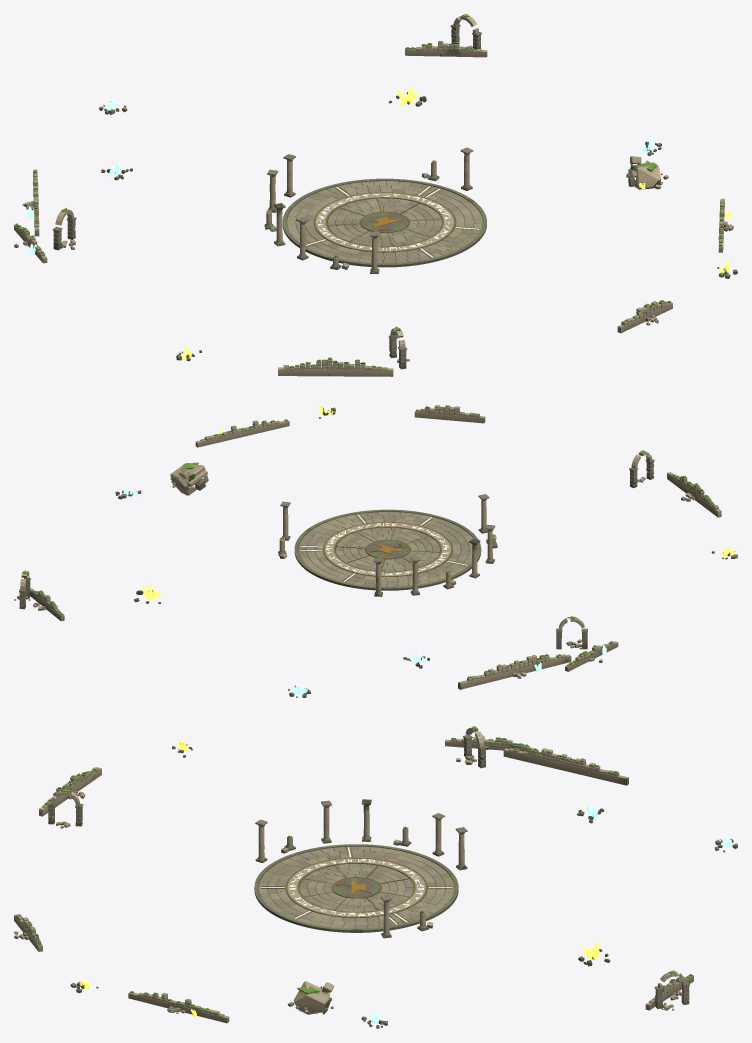
File: LOBBY_SN_03_TOWN_d9f901.fbx
The picture shows the model from 3 angles, top to bottom: view 1: azimuth 30°, elevation 25°; view 2: azimuth 150°, elevation 25°; view 3: azimuth 270°, elevation 25°; orthographic projection. The views are drawn at different scales.
Visible parts, largest first — view 1: WB_Town_Plaza_01__SNB_Plaza_2, WB_Town_Plaza__SNB_Plaza_1, WB_Prop_Ruins__SNB_Ruins_g15_15, WB_Prop_Ruins__SNB_Ruins_g15_16, WB_Prop_Ruins__SNB_Ruins_g16_16, WB_Prop_Ruins__SNB_Ruins_g16_15, WB_Prop_Ruins__SNB_Ruins_g16_14, WB_Town_Plaza_02__SN_Rune, WB_Prop_Ruins__SNB_Ruins_g16_17; view 2: WB_Town_Plaza_01__SNB_Plaza_2, WB_Town_Plaza__SNB_Plaza_1, WB_Prop_Ruins__SNB_Ruins_g15_16, WB_Prop_Ruins__SNB_Ruins_g16_15, WB_Prop_Ruins__SNB_Ruins_g15_15, WB_Prop_Ruins__SNB_Ruins_g16_16, WB_Prop_Ruins__SNB_Ruins_g16_14, WB_Town_Plaza_02__SN_Rune, WB_Prop_Ruins__SNB_Ruins_g16_17, WB_Prop_Ruins__SNB_Ruins_g14_16; view 3: WB_Town_Plaza_01__SNB_Plaza_2, WB_Town_Plaza__SNB_Plaza_1, WB_Prop_Ruins__SNB_Ruins_g15_16, WB_Prop_Ruins__SNB_Ruins_g16_15, WB_Prop_Ruins__SNB_Ruins_g15_15, WB_Prop_Ruins__SNB_Ruins_g16_16, WB_Town_Plaza_02__SN_Rune, WB_Prop_Ruins__SNB_Ruins_g14_16, WB_Prop_Ruins__SNB_Ruins_g16_17, WB_Prop_Ruins__SNB_Ruins_g16_14.
Part boxes in pixels (bbox=[...]): WB_Town_Plaza_01__SNB_Plaza_2: bbox=[282, 178, 486, 267]; WB_Town_Plaza__SNB_Plaza_1: bbox=[286, 181, 482, 263]; WB_Prop_Ruins__SNB_Ruins_g15_15: bbox=[199, 216, 409, 376]; WB_Prop_Ruins__SNB_Ruins_g15_16: bbox=[22, 101, 295, 361]; WB_Prop_Ruins__SNB_Ruins_g16_16: bbox=[388, 15, 653, 190]; WB_Prop_Ruins__SNB_Ruins_g16_15: bbox=[626, 141, 737, 301]; WB_Prop_Ruins__SNB_Ruins_g16_14: bbox=[617, 300, 672, 333]; WB_Town_Plaza_02__SN_Rune: bbox=[306, 186, 478, 257]; WB_Prop_Ruins__SNB_Ruins_g16_17: bbox=[405, 14, 485, 55]; WB_Town_Plaza_01__SNB_Plaza_2: bbox=[294, 509, 481, 590]; WB_Town_Plaza__SNB_Plaza_1: bbox=[298, 512, 477, 586]; WB_Prop_Ruins__SNB_Ruins_g15_16: bbox=[288, 538, 737, 697]; WB_Prop_Ruins__SNB_Ruins_g16_15: bbox=[115, 407, 419, 499]; WB_Prop_Ruins__SNB_Ruins_g15_15: bbox=[478, 450, 721, 563]; WB_Prop_Ruins__SNB_Ruins_g16_16: bbox=[17, 490, 290, 615]; WB_Prop_Ruins__SNB_Ruins_g16_14: bbox=[414, 405, 485, 423]; WB_Town_Plaza_02__SN_Rune: bbox=[300, 514, 466, 581]; WB_Prop_Ruins__SNB_Ruins_g16_17: bbox=[14, 571, 64, 621]; WB_Prop_Ruins__SNB_Ruins_g14_16: bbox=[565, 631, 618, 671]; WB_Town_Plaza_01__SNB_Plaza_2: bbox=[254, 844, 458, 932]; WB_Town_Plaza__SNB_Plaza_1: bbox=[258, 846, 454, 928]; WB_Prop_Ruins__SNB_Ruins_g15_16: bbox=[172, 726, 737, 870]; WB_Prop_Ruins__SNB_Ruins_g16_15: bbox=[39, 943, 387, 1028]; WB_Prop_Ruins__SNB_Ruins_g15_15: bbox=[39, 755, 331, 862]; WB_Prop_Ruins__SNB_Ruins_g16_16: bbox=[361, 895, 691, 1021]; WB_Town_Plaza_02__SN_Rune: bbox=[261, 847, 452, 924]; WB_Prop_Ruins__SNB_Ruins_g14_16: bbox=[445, 735, 529, 751]; WB_Prop_Ruins__SNB_Ruins_g16_17: bbox=[651, 970, 693, 1010]; WB_Prop_Ruins__SNB_Ruins_g16_14: bbox=[14, 914, 42, 951].
Size of the model in its own units: 276 by 21.15 by 293.
Materials: 6 (3 with a texture image).
